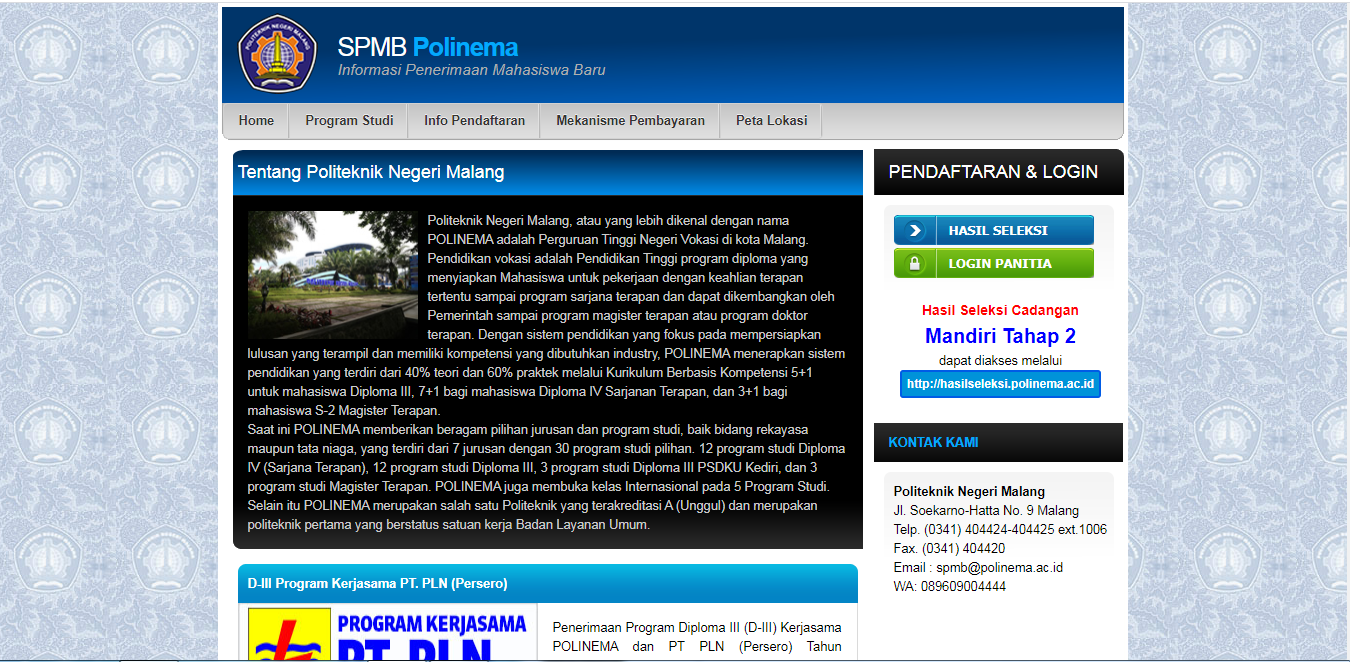Button: (891, 209, 1096, 250), (895, 366, 1105, 402), (895, 249, 1091, 282)
Image: (230, 13, 622, 95), (246, 209, 423, 346)
Menu Bar: (220, 102, 834, 147)
Side Bar: (872, 141, 1125, 635)
